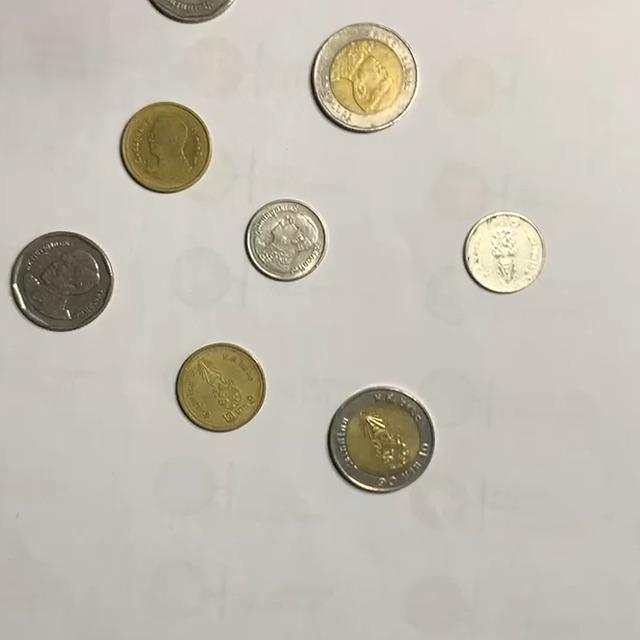1-baht: (245, 199, 328, 282), (464, 212, 547, 295)
10-baht: (312, 24, 419, 133), (328, 386, 437, 491)
2-baht: (120, 101, 213, 193), (175, 343, 265, 432)
5-baht: (11, 230, 116, 332), (140, 0, 244, 23)
